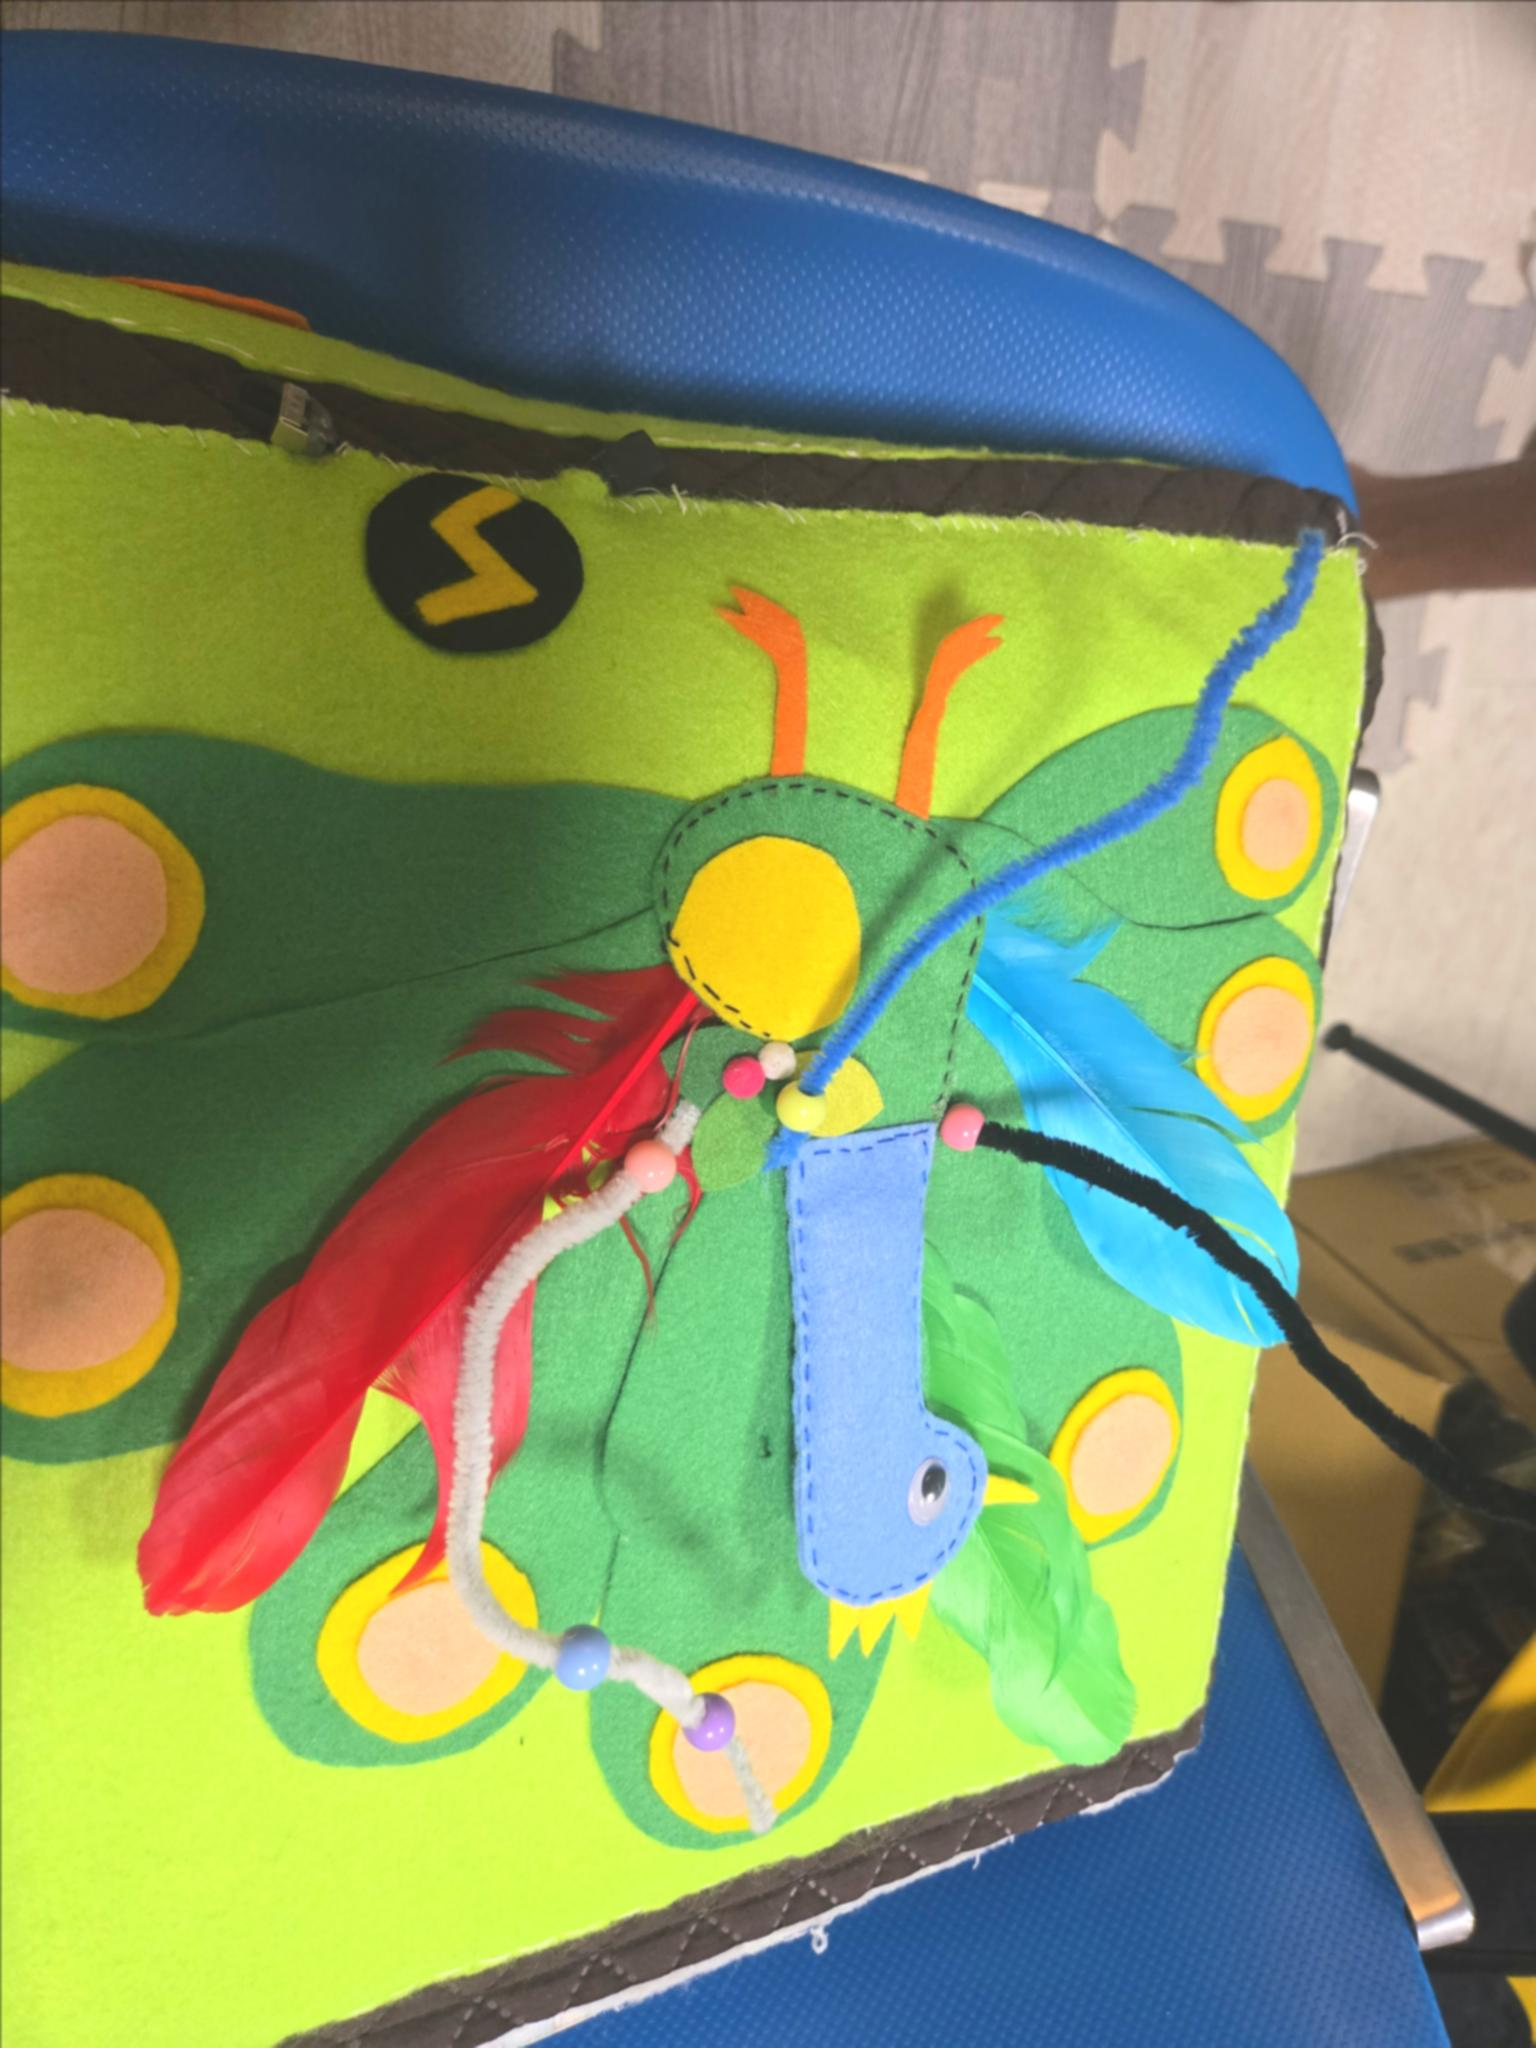bead: (523, 1621, 624, 1693), (592, 1129, 686, 1192), (679, 1680, 737, 1755), (928, 1084, 983, 1156), (768, 1076, 829, 1135)
